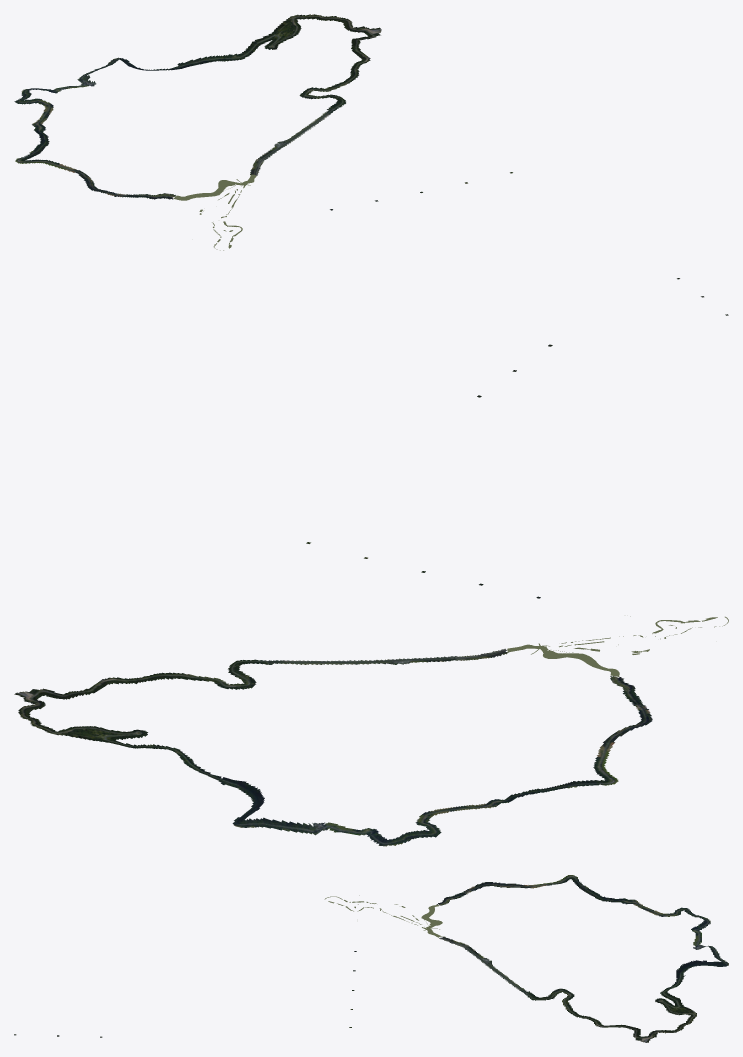
Rendered from map_fill.glb.
3 views of the same model, one above another, from view 1: azimuth 30°, elevation 25°; view 2: azimuth 150°, elevation 25°; view 3: azimuth 270°, elevation 25° (orthographic). The views are drawn at different scales.
Parts seen in each view (by area): view 1: terrain_fill, chunk_fill; view 2: terrain_fill, chunk_fill; view 3: terrain_fill, chunk_fill.
Part boxes in pixels (x1,y1,x2,y2): terrain_fill: (14,14,728,315); chunk_fill: (173,174,256,250); terrain_fill: (14,344,652,846); chunk_fill: (507,616,728,677); terrain_fill: (14,875,728,1042); chunk_fill: (324,895,442,937).
Size of the model in its own units: 6480 by 308 by 11640.
Materials: 2 (2 with a texture image).
